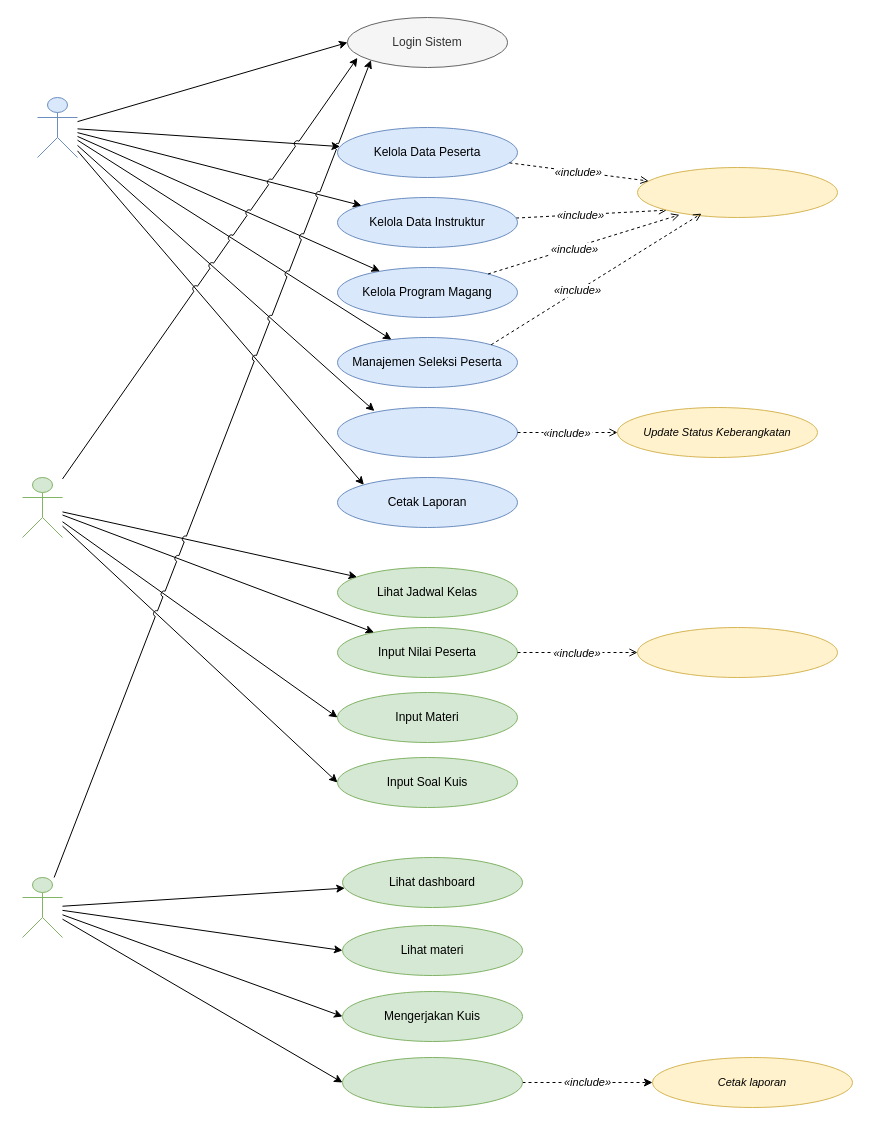
This 870x1125 diagram has some shape labels left out. The centre of each missing label's shape, as x and y in pixels:
"Admin LPK" belongs at point 57,127.
"Instruktur" belongs at point 42,507.
"Kelola Dokumen Keberangkatan" belongs at point 427,432.
"Lihat Nilai" belongs at point 432,1082.
"Peserta" belongs at point 42,907.
"Tambah / Edit / Hapus Peserta" belongs at point 737,192.
"Update Status Lulus / Gugur" belongs at point 737,652.
